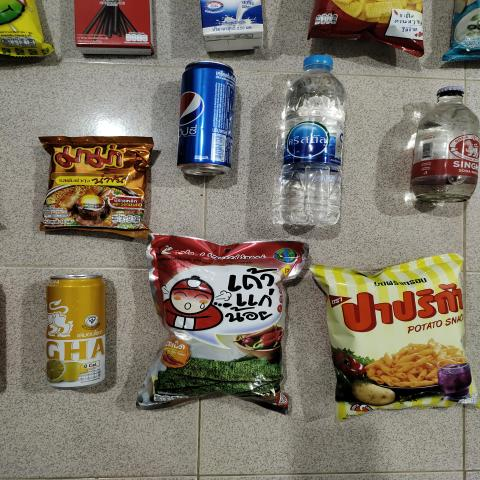crystal: (277, 51, 347, 223)
mama: (42, 138, 151, 229)
paprika: (340, 267, 456, 420)
pepsi_blue: (178, 60, 234, 175)
singha_soda: (409, 84, 480, 206)
singha_yellow: (46, 272, 103, 392)
taokaenoi: (142, 244, 294, 404)
